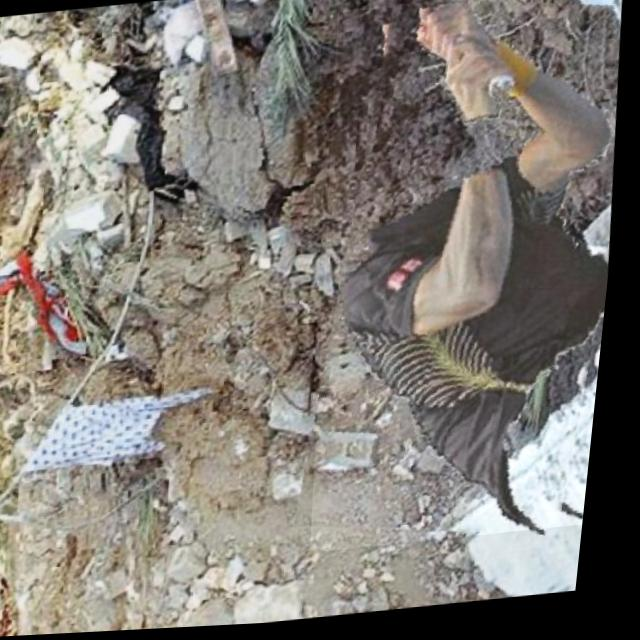Person in Rubble: (294, 0, 639, 556)
